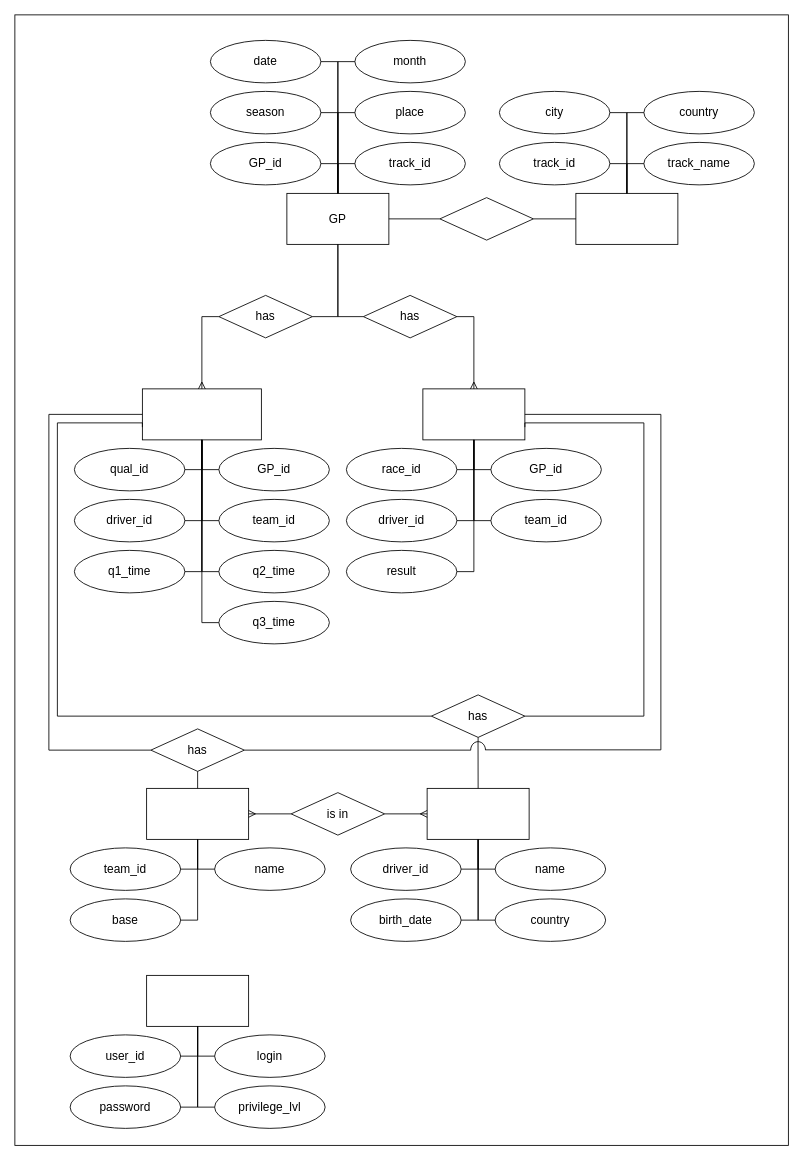
This 803x1160 diagram has some shape labels left out. The shapes that lost their labels are listed below. From the top down, each one's centre as x and y in pixels, then its label:
(486,218): is held on
(626,218): tracks
(201,414): qualification_results
(473,414): race_results
(197,813): teams
(477,813): drivers
(197,1000): users
